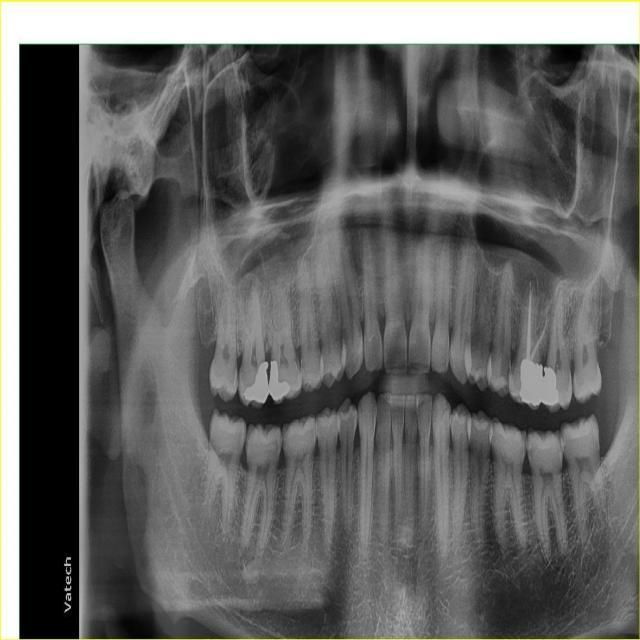74: (529, 301, 554, 361), (526, 278, 534, 359)
NucleOSS Implant: (242, 358, 281, 408), (519, 359, 544, 406), (268, 359, 292, 402), (539, 364, 560, 407)
Sterngold Implant: (500, 352, 509, 384), (280, 436, 289, 452), (236, 374, 244, 389), (527, 443, 534, 460), (521, 443, 526, 455)
